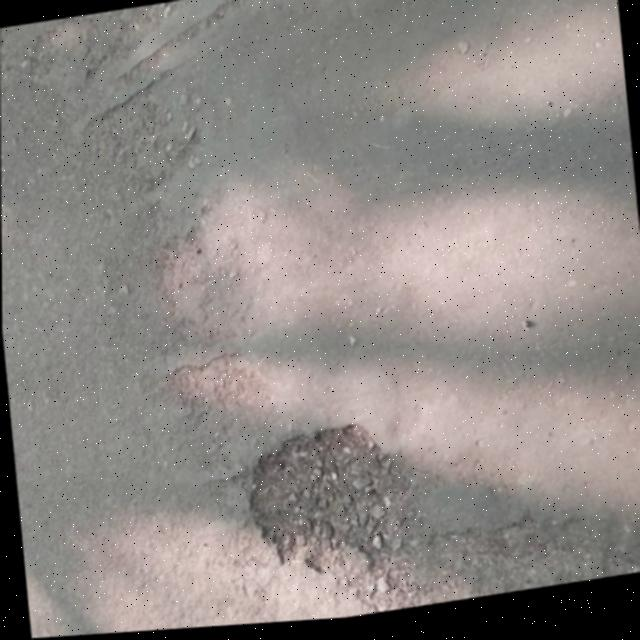Pothole: (234, 411, 412, 608)
